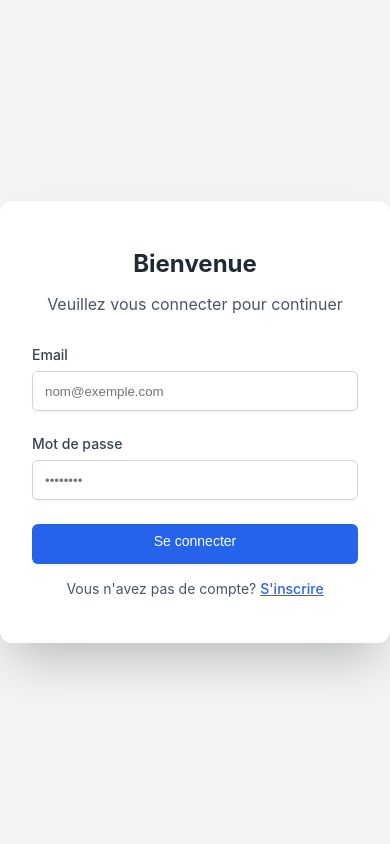
Test: <Login /> › affiche une erreur si la connexion échoue
Type "test@mail.com" into the field labelled "Email" at [195, 391], box [32,371,358,411]
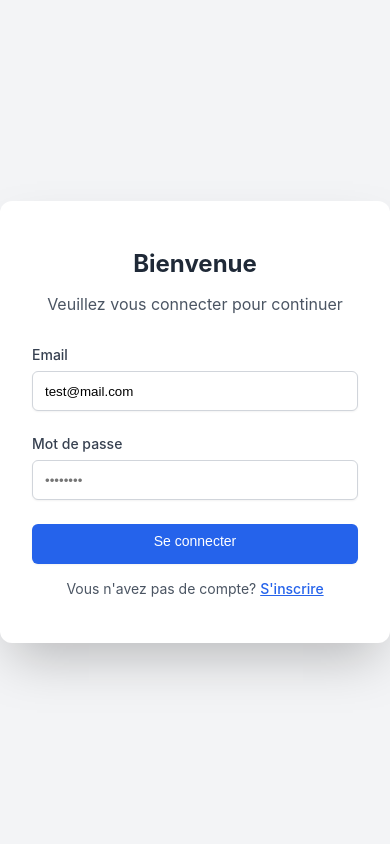
Type "123456" into the password field labelled "Mot de passe" at [195, 480], box [32,460,358,500]
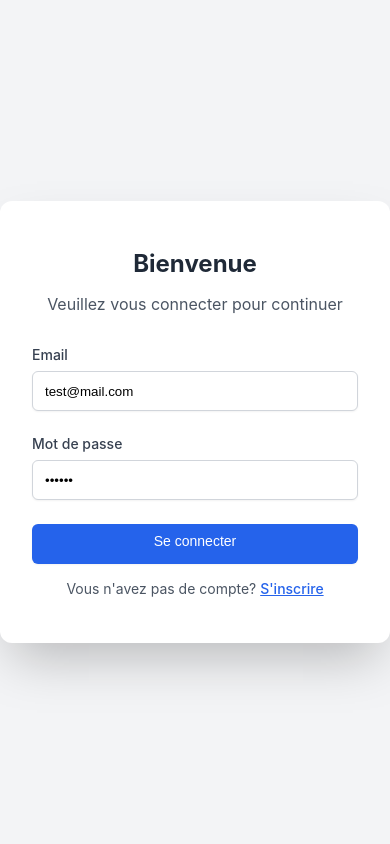
Click the button "Se connecter" at [195, 544], box [32,524,358,564]
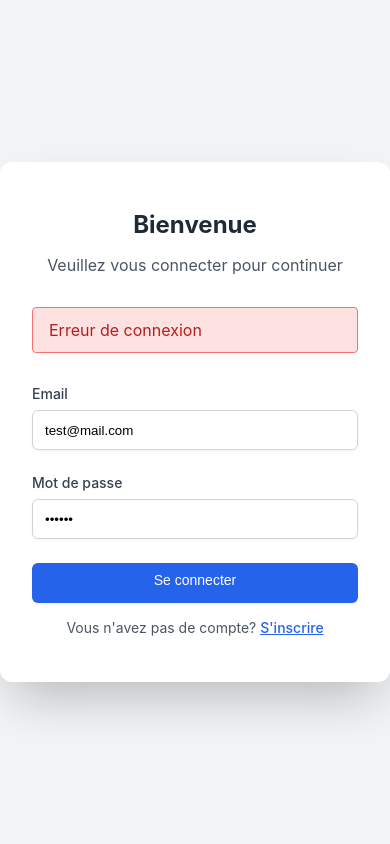
Now the message reads "Erreur de connexion", box [49,320,202,340]
